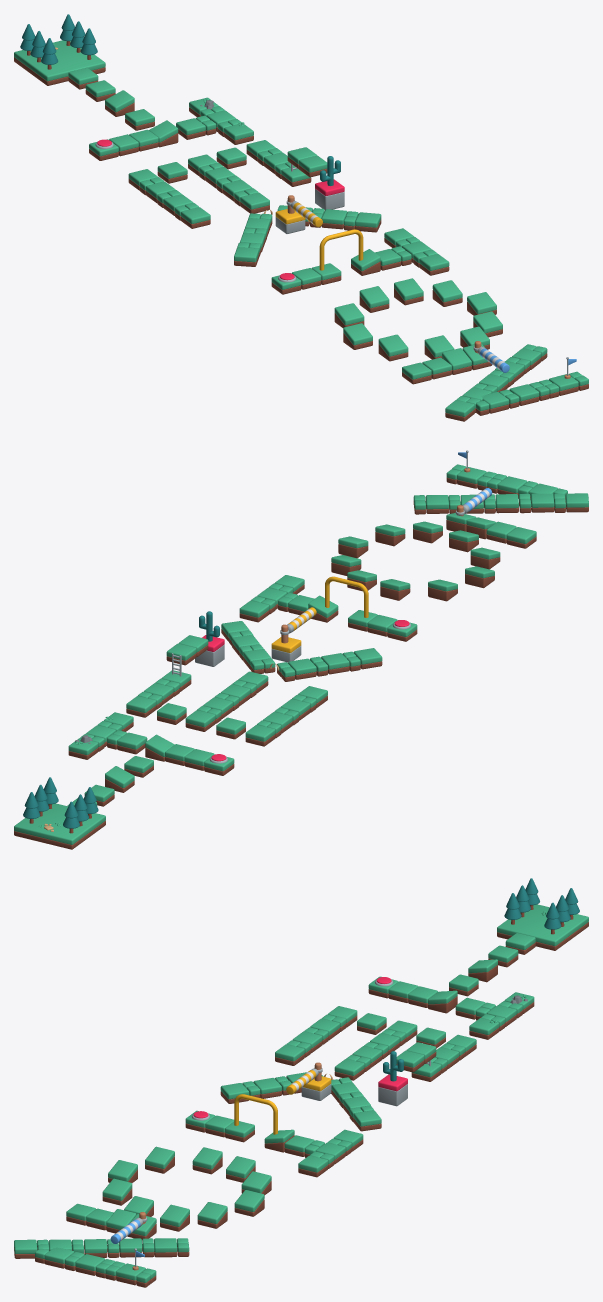
File: mini-world.gltf
The picture shows the model from 3 angles, top to bottom: view 1: azimuth 30°, elevation 25°; view 2: azimuth 150°, elevation 25°; view 3: azimuth 330°, elevation 25°; orthographic projection.
Visible parts, largest first — view 1: tileLarge_forest.001, tileHigh_teamRed.001, tileSlopeLowMedium_forest.007, tileSlopeLowMedium_forest.012, tileSlopeLowMedium_forest.010, tileSlopeLowMedium_forest.008, tileSlopeLowMedium_forest.011, tileMedium_teamYellow.001, tileSlopeLowMedium_forest.001, tileSlopeLowMedium_forest.009, tileSlopeLowMedium_forest.002, tileSlopeLowMedium_forest.003 (+4 smaller); view 2: tileLarge_forest.001, tileMedium_teamYellow.001, tileHigh_teamRed.001, tileSlopeLowMedium_forest.001, tileSlopeLowMedium_forest.003, tileSlopeLowMedium_forest.004, tileSlopeLowMedium_forest.007, tileSlopeLowMedium_forest.010, tileSlopeLowMedium_forest.005, tileSlopeLowMedium_forest.009, tileSlopeLowMedium_forest.006, tileSlopeLowMedium_forest.008 (+2 smaller); view 3: tileLarge_forest.001, tileHigh_teamRed.001, tileSlopeLowMedium_forest.010, tileSlopeLowMedium_forest.007, tileSlopeLowMedium_forest.004, tileSlopeLowMedium_forest.003, tileSlopeLowMedium_forest.009, tileSlopeLowMedium_forest.005, tileSlopeLowMedium_forest.011, tileMedium_teamYellow.001, tileSlopeLowMedium_forest.013, tileSlopeLowMedium_forest.012 (+2 smaller).
Part boxes in pixels (x1=…): tileLarge_forest.001: x1=14, y1=40, x2=105, y2=85; tileHigh_teamRed.001: x1=315, y1=179, x2=344, y2=210; tileSlopeLowMedium_forest.007: x1=378, y1=334, x2=408, y2=361; tileSlopeLowMedium_forest.012: x1=432, y1=280, x2=462, y2=306; tileSlopeLowMedium_forest.010: x1=359, y1=286, x2=389, y2=312; tileSlopeLowMedium_forest.008: x1=343, y1=323, x2=372, y2=349; tileSlopeLowMedium_forest.011: x1=394, y1=278, x2=423, y2=305; tileMedium_teamYellow.001: x1=275, y1=209, x2=305, y2=233; tileSlopeLowMedium_forest.001: x1=105, y1=90, x2=134, y2=116; tileSlopeLowMedium_forest.009: x1=334, y1=303, x2=364, y2=327; tileSlopeLowMedium_forest.002: x1=351, y1=249, x2=380, y2=275; tileSlopeLowMedium_forest.003: x1=467, y1=292, x2=496, y2=315; tileLarge_forest.001: x1=14, y1=803, x2=105, y2=849; tileMedium_teamYellow.001: x1=271, y1=637, x2=301, y2=662; tileHigh_teamRed.001: x1=195, y1=635, x2=224, y2=666; tileSlopeLowMedium_forest.001: x1=105, y1=766, x2=134, y2=792; tileSlopeLowMedium_forest.003: x1=338, y1=536, x2=368, y2=558; tileSlopeLowMedium_forest.004: x1=375, y1=524, x2=405, y2=546; tileSlopeLowMedium_forest.007: x1=470, y1=547, x2=500, y2=569; tileSlopeLowMedium_forest.010: x1=380, y1=579, x2=410, y2=600; tileSlopeLowMedium_forest.005: x1=413, y1=521, x2=442, y2=543; tileSlopeLowMedium_forest.009: x1=428, y1=579, x2=457, y2=601; tileSlopeLowMedium_forest.006: x1=449, y1=530, x2=478, y2=552; tileSlopeLowMedium_forest.008: x1=465, y1=566, x2=494, y2=588; tileLarge_forest.001: x1=497, y1=904, x2=588, y2=950; tileHigh_teamRed.001: x1=378, y1=1074, x2=407, y2=1106; tileSlopeLowMedium_forest.010: x1=192, y1=1147, x2=222, y2=1174; tileSlopeLowMedium_forest.007: x1=102, y1=1178, x2=132, y2=1205; tileSlopeLowMedium_forest.004: x1=197, y1=1202, x2=227, y2=1228; tileSlopeLowMedium_forest.003: x1=234, y1=1190, x2=264, y2=1216; tileSlopeLowMedium_forest.009: x1=145, y1=1146, x2=174, y2=1173; tileSlopeLowMedium_forest.005: x1=160, y1=1204, x2=189, y2=1231; tileSlopeLowMedium_forest.011: x1=226, y1=1156, x2=255, y2=1182; tileMedium_teamYellow.001: x1=301, y1=1076, x2=331, y2=1100; tileSlopeLowMedium_forest.013: x1=428, y1=990, x2=457, y2=1013; tileSlopeLowMedium_forest.012: x1=241, y1=1171, x2=271, y2=1195.
Bounding box in the file's own units: 15.94 × 4.87 × 85.34.
